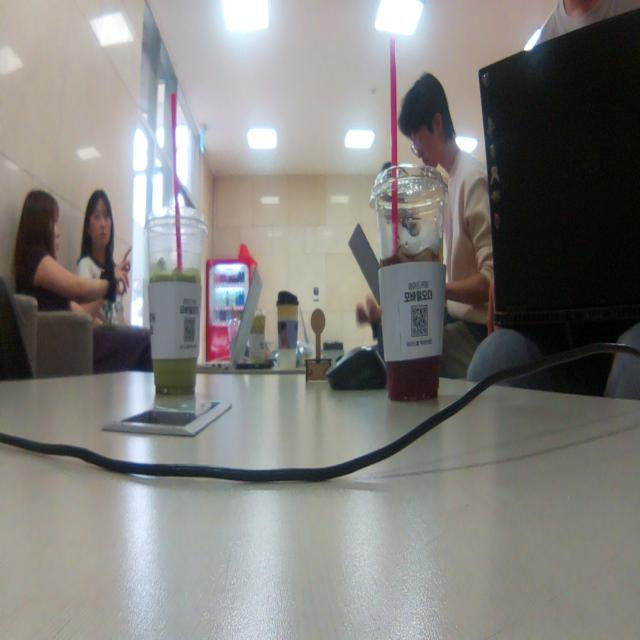target: (305, 307, 332, 383)
